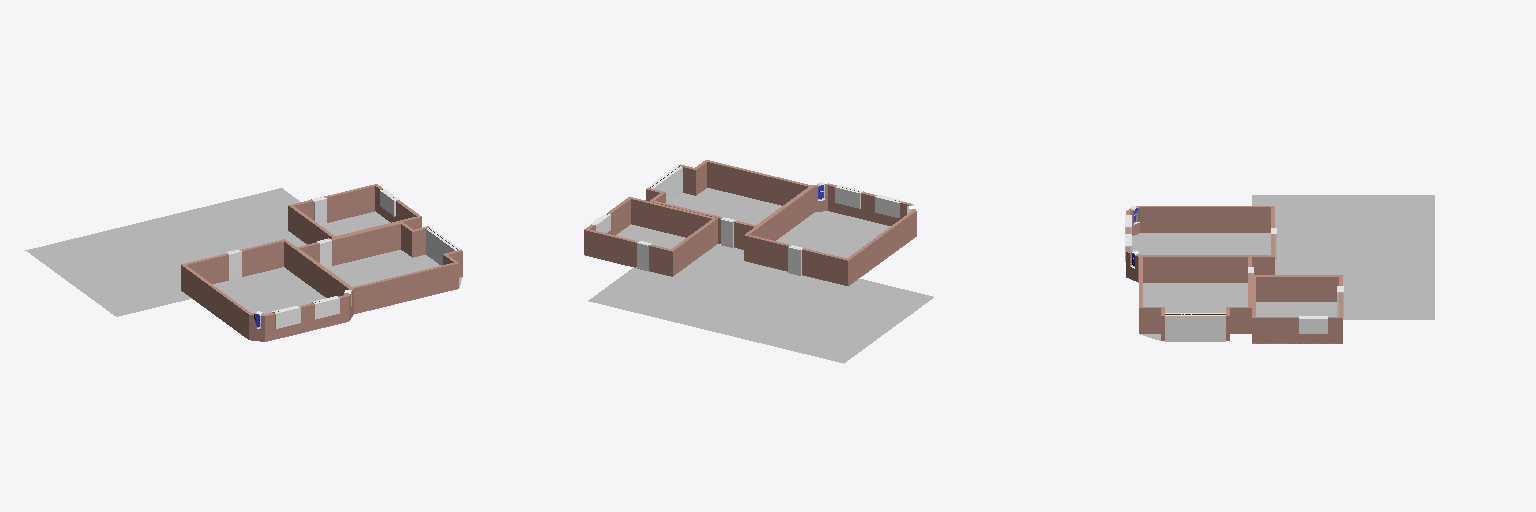
Rendered from testCluedo.obj.
3 views of the same model, side by side, from view 1: azimuth 30°, elevation 25°; view 2: azimuth 150°, elevation 25°; view 3: azimuth 270°, elevation 25° (orthographic).
Parts seen in each view (by area): view 1: Pavimento_Plane.107, SalaDaPranzo_Room, Cucina_Room.001, Studio_temp.001, PavimentoSalaDaPranzo_Floor.002, PavimentoCucina_Floor.001, PavimentoStudio_Floor; view 2: Pavimento_Plane.107, SalaDaPranzo_Room, Studio_temp.001, Cucina_Room.001, PavimentoSalaDaPranzo_Floor.002, PavimentoCucina_Floor.001, PavimentoStudio_Floor; view 3: Pavimento_Plane.107, SalaDaPranzo_Room, Cucina_Room.001, Studio_temp.001, PavimentoSalaDaPranzo_Floor.002, PavimentoCucina_Floor.001, PavimentoStudio_Floor, CTRL_Hole.004, CTRL_Hole.003_CTRL_Hole.002.
Part boxes in pixels (x1,y1,x2,y2): Pavimento_Plane.107: (25,188,306,316); SalaDaPranzo_Room: (181,239,353,341); Cucina_Room.001: (296,221,462,313); Studio_temp.001: (288,184,421,243); PavimentoSalaDaPranzo_Floor.002: (213,267,325,314); PavimentoCucina_Floor.001: (327,250,462,287); PavimentoStudio_Floor: (322,211,390,235); Pavimento_Plane.107: (588,244,933,363); SalaDaPranzo_Room: (744,183,916,285); Studio_temp.001: (584,197,717,276); Cucina_Room.001: (646,160,813,248); PavimentoSalaDaPranzo_Floor.002: (776,211,890,257); PavimentoCucina_Floor.001: (668,188,781,224); PavimentoStudio_Floor: (616,224,685,248); Pavimento_Plane.107: (1252,195,1434,319); SalaDaPranzo_Room: (1126,206,1274,282); Cucina_Room.001: (1139,257,1251,340); Studio_temp.001: (1252,275,1342,343); PavimentoSalaDaPranzo_Floor.002: (1132,233,1270,254); PavimentoCucina_Floor.001: (1140,283,1247,340); PavimentoStudio_Floor: (1256,302,1336,316); CTRL_Hole.004: (1195,313,1225,341); CTRL_Hole.003_CTRL_Hole.002: (1165,313,1195,341).
Size of the model in its own units: 62.2 by 5.49 by 54.31.